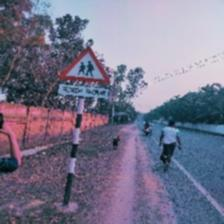Animal: (51, 41, 116, 111)
